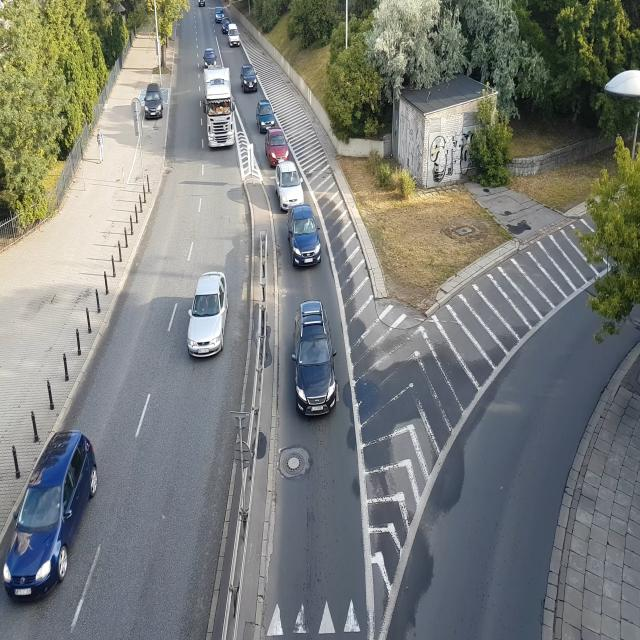car: (1, 418, 101, 603), (291, 303, 338, 413), (186, 260, 231, 364), (289, 204, 322, 266), (276, 160, 307, 213), (265, 127, 289, 166), (143, 88, 165, 120), (256, 102, 278, 131), (240, 64, 258, 90), (257, 114, 277, 133), (203, 49, 216, 68), (216, 6, 226, 25), (196, 0, 208, 13), (229, 35, 240, 49), (221, 22, 232, 36)
truck: (204, 66, 235, 146)
